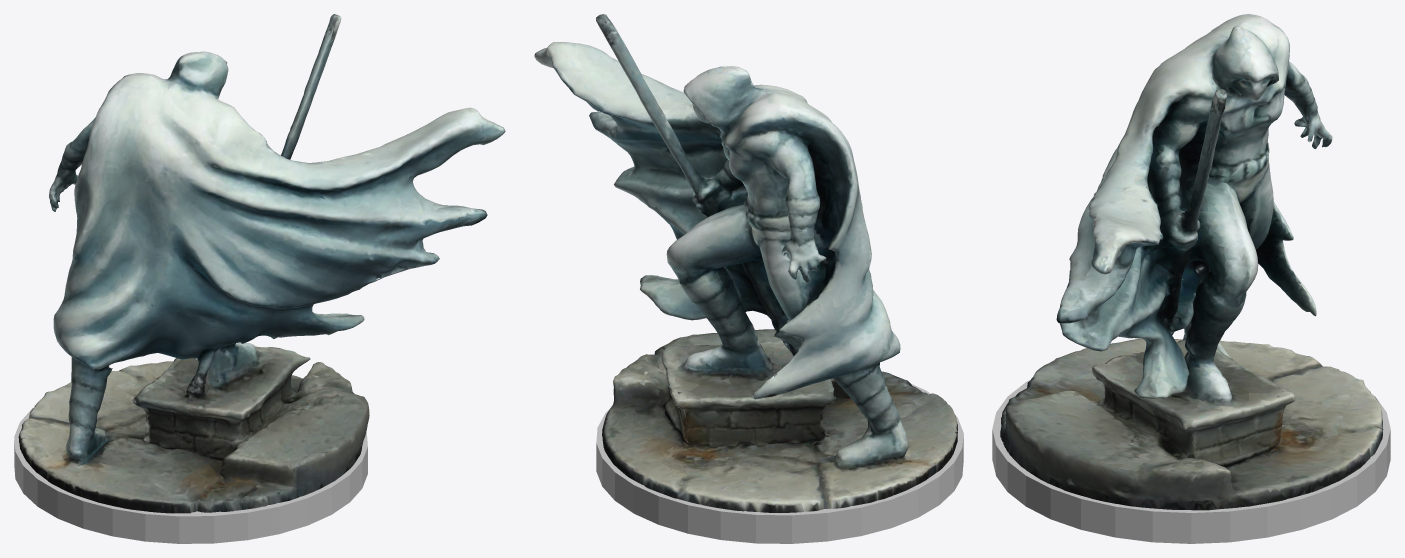
3 views of the same model, side by side, from view 1: azimuth 30°, elevation 25°; view 2: azimuth 150°, elevation 25°; view 3: azimuth 270°, elevation 25° (orthographic). The views are drawn at different scales.
Parts seen in each view (by area): view 1: MoonKnight, default; view 2: MoonKnight, default; view 3: MoonKnight, default.
Part boxes in pixels (box(x1,y1,x2,y2)): MoonKnight: box(18, 14, 505, 513); default: box(14, 407, 367, 543); MoonKnight: box(534, 14, 957, 512); default: box(596, 384, 963, 543); MoonKnight: box(1000, 14, 1383, 510); default: box(992, 366, 1390, 543).
Bounding box in the file's own units: 1.92 × 1.74 × 1.38.
2 materials, 1 textured.
